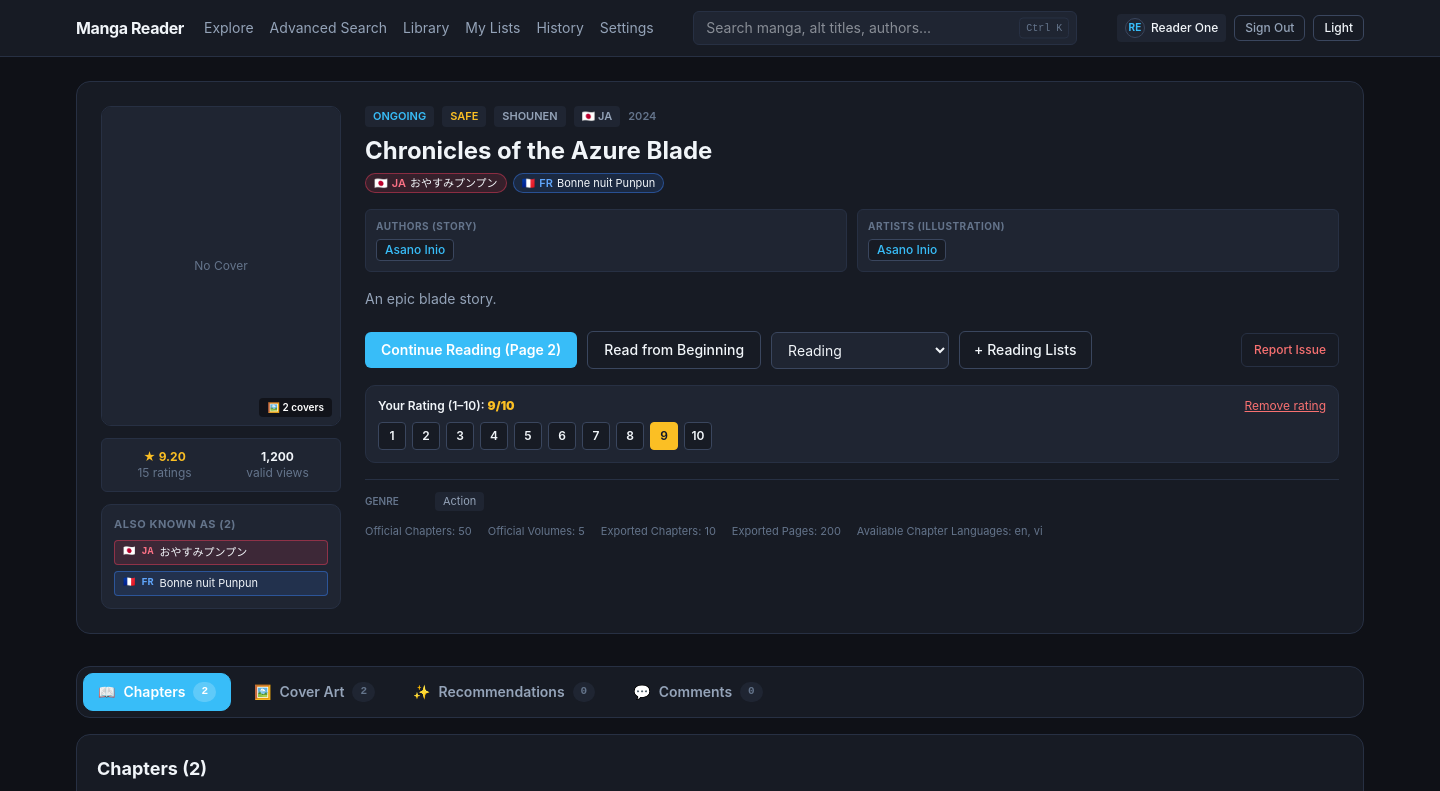
Manga Reader Frontend Application › renders localized Also Known As badges, Cover Art locale filter, and Volume/No Volume chapter groups
Expected: the text "Authors (Story)" is shown, 376,220 -> 477,232
Expected: the text "Artists (Illustration)" is shown, 868,220 -> 1005,232
Note: Switch to Cover Art tab cleanly
Click the tab "🖼️ Cover Art 2". click: x=315, y=692
box: 239,673 -> 390,711
(page scrolled)
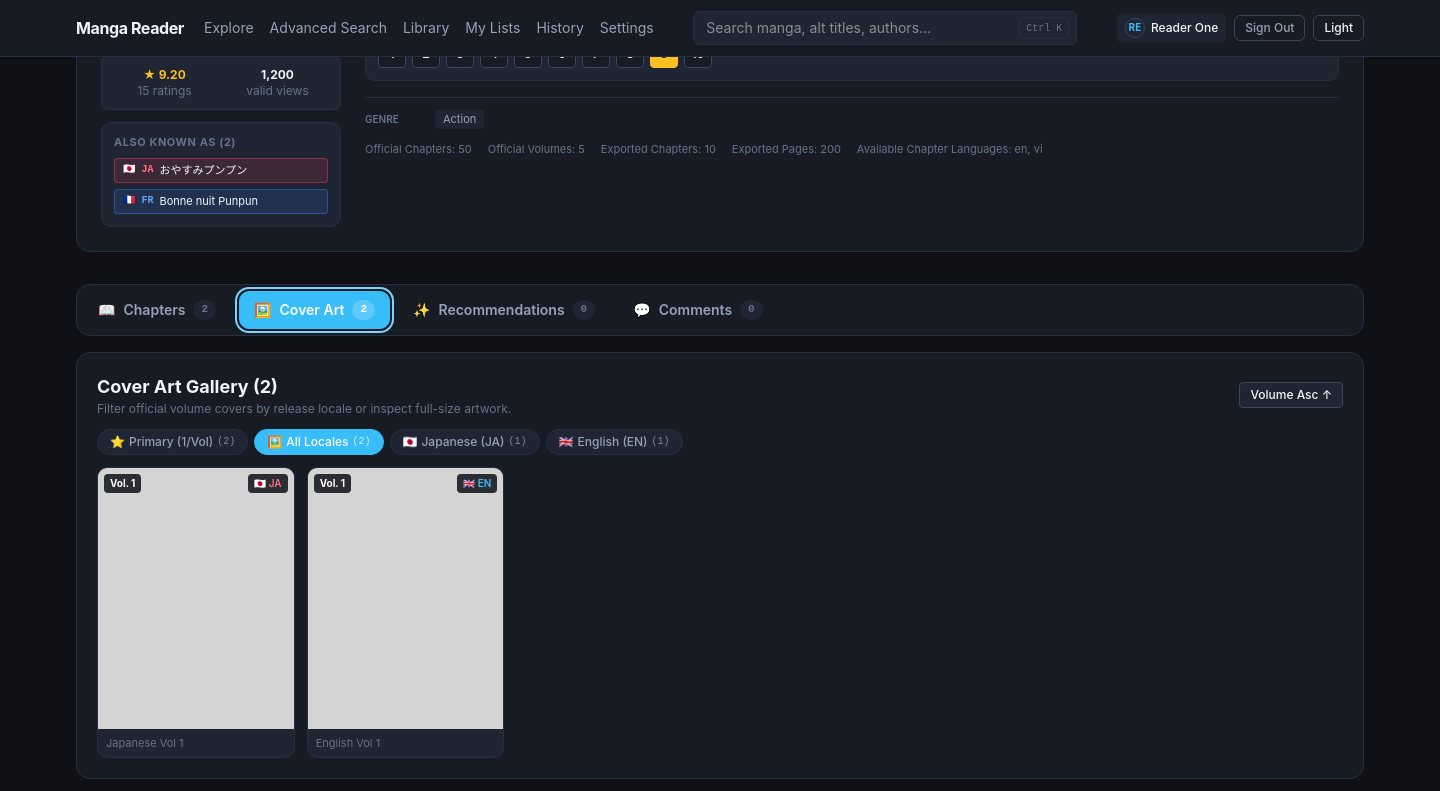
Now the heading "Cover Art Gallery (2)" is shown, box 97,376 -> 278,397
Now the button "🖼️ All Locales (2)" is shown, box 254,429 -> 384,455
Now the heading "Chapters (2)" is gone
Click the button "🇬🇧 English (EN) (1)". click: x=614, y=442
box: 546,429 -> 683,455
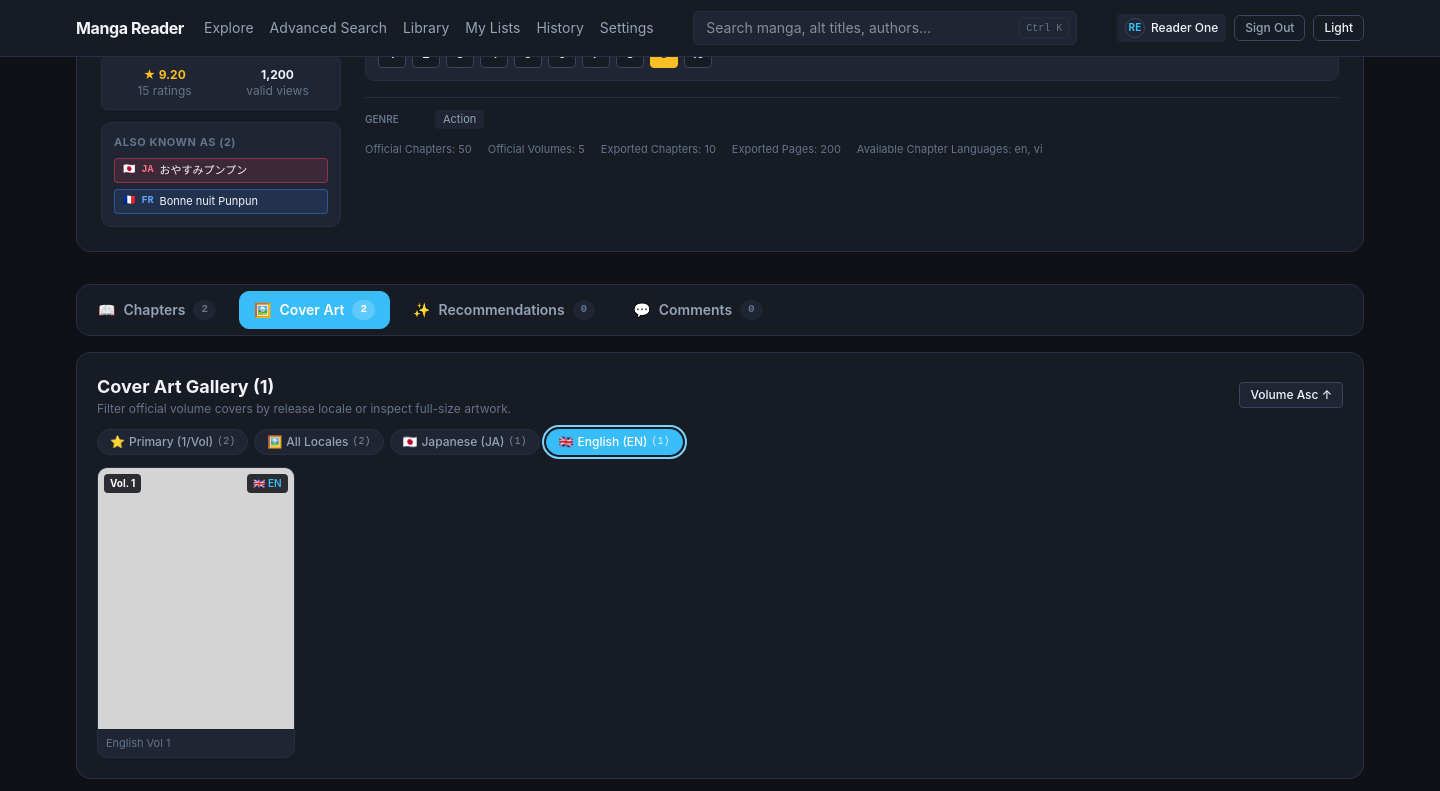
Now the text "English Vol 1" is shown, box 106,736 -> 170,750
Now the button "Japanese Vol 1" is gone
